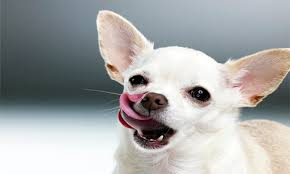chihuahua: (78, 6, 287, 173)
